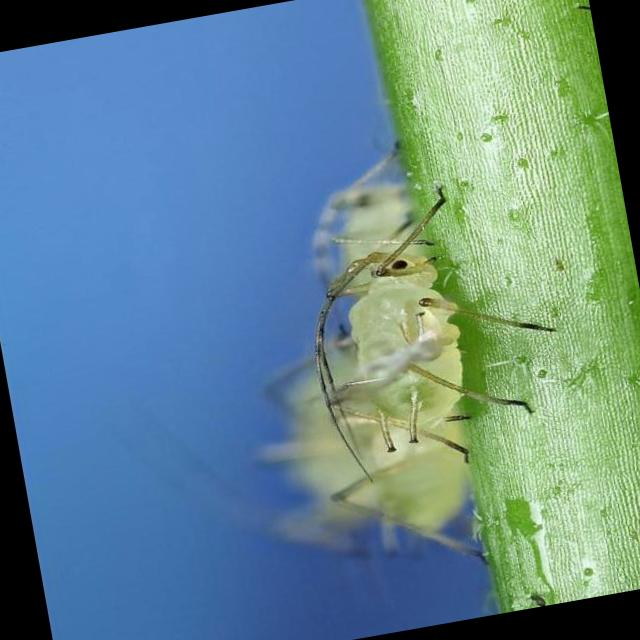aphid: (281, 182, 534, 466)
